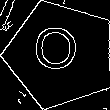O_S: (37, 29, 83, 81)
